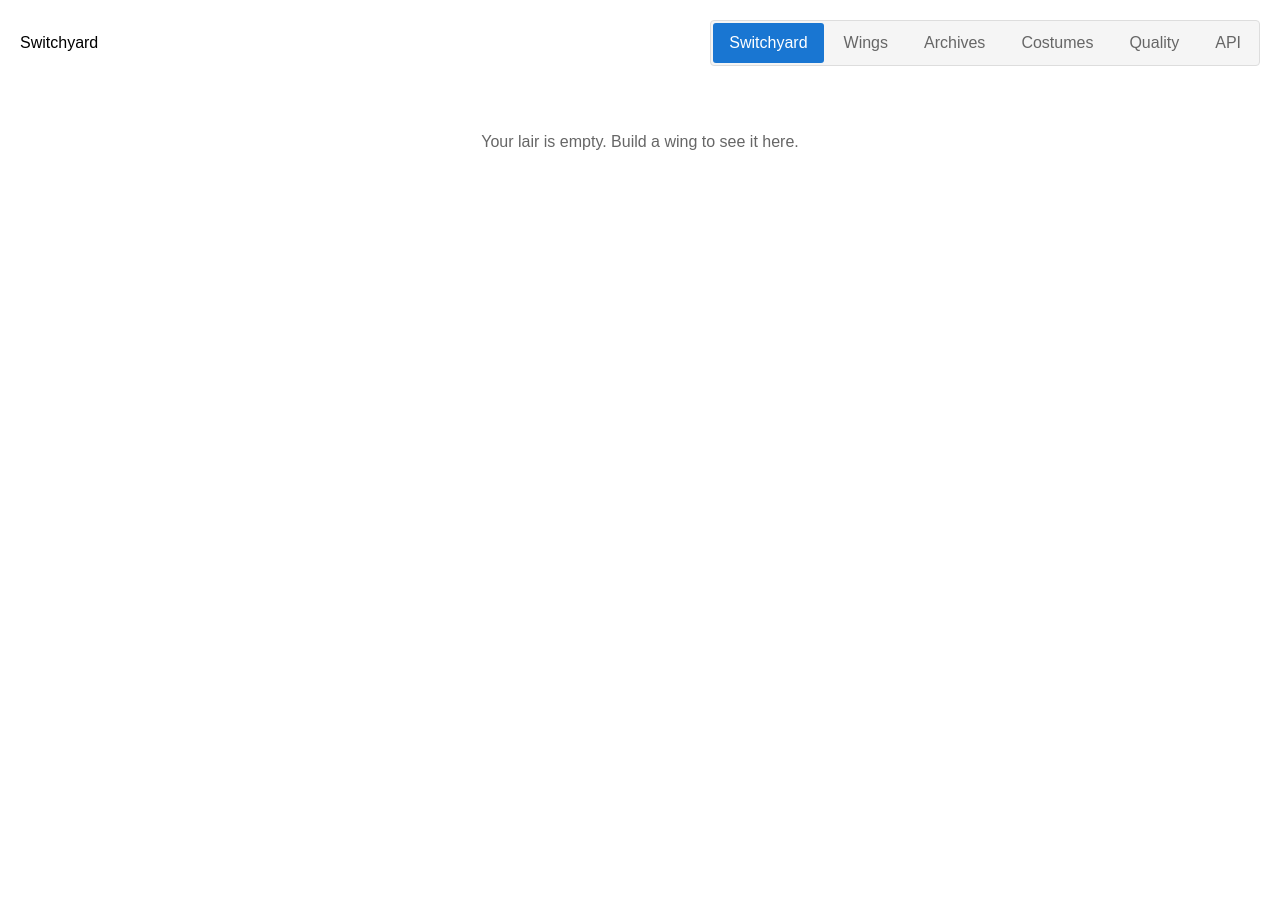
LairOverview › shows create form when button clicked
Click the button "Wings" at (866, 43), box 828,23 -> 904,63
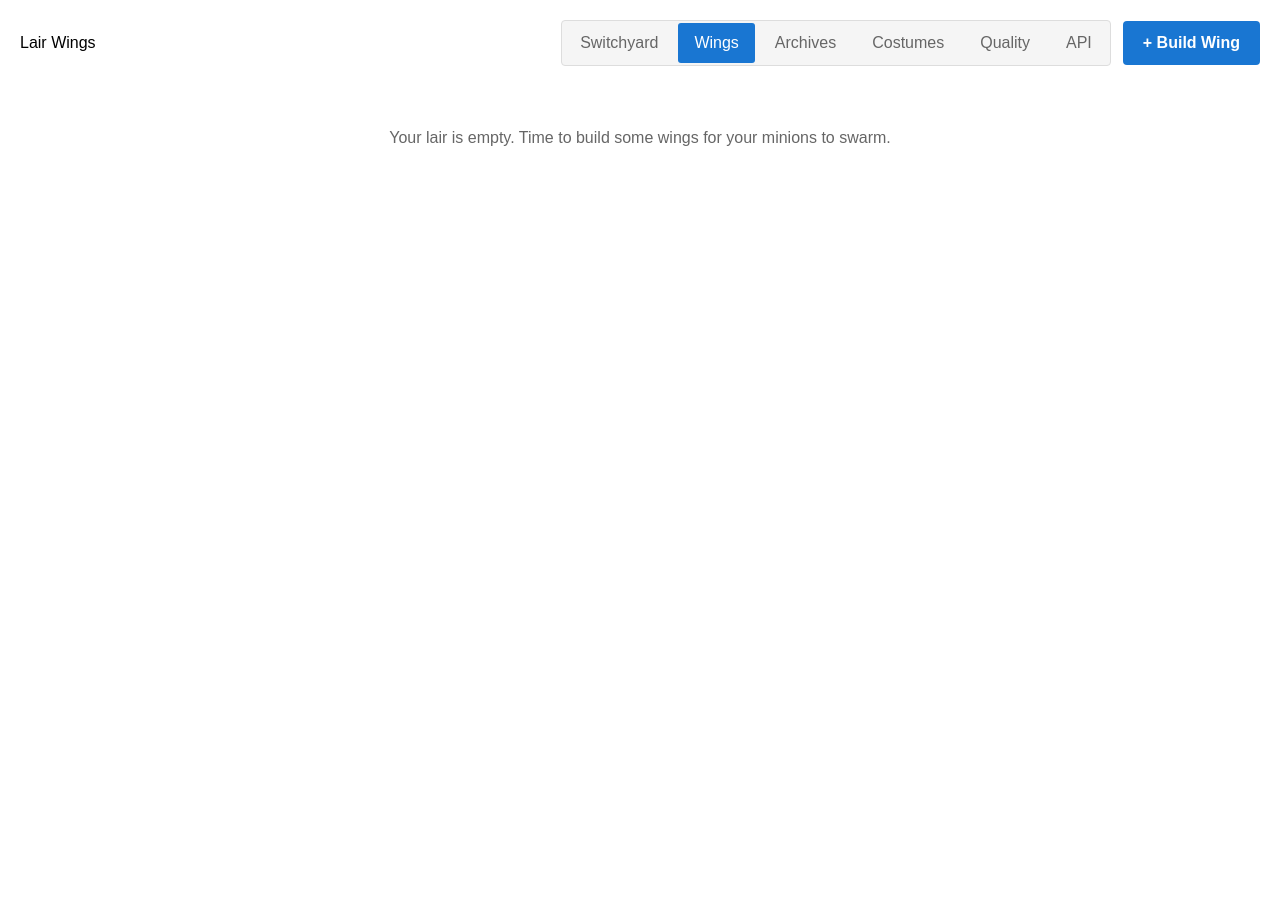
Check: the button "+ Build Wing" is shown
Click the button "+ Build Wing" at (1191, 43), box 1123,21 -> 1260,65
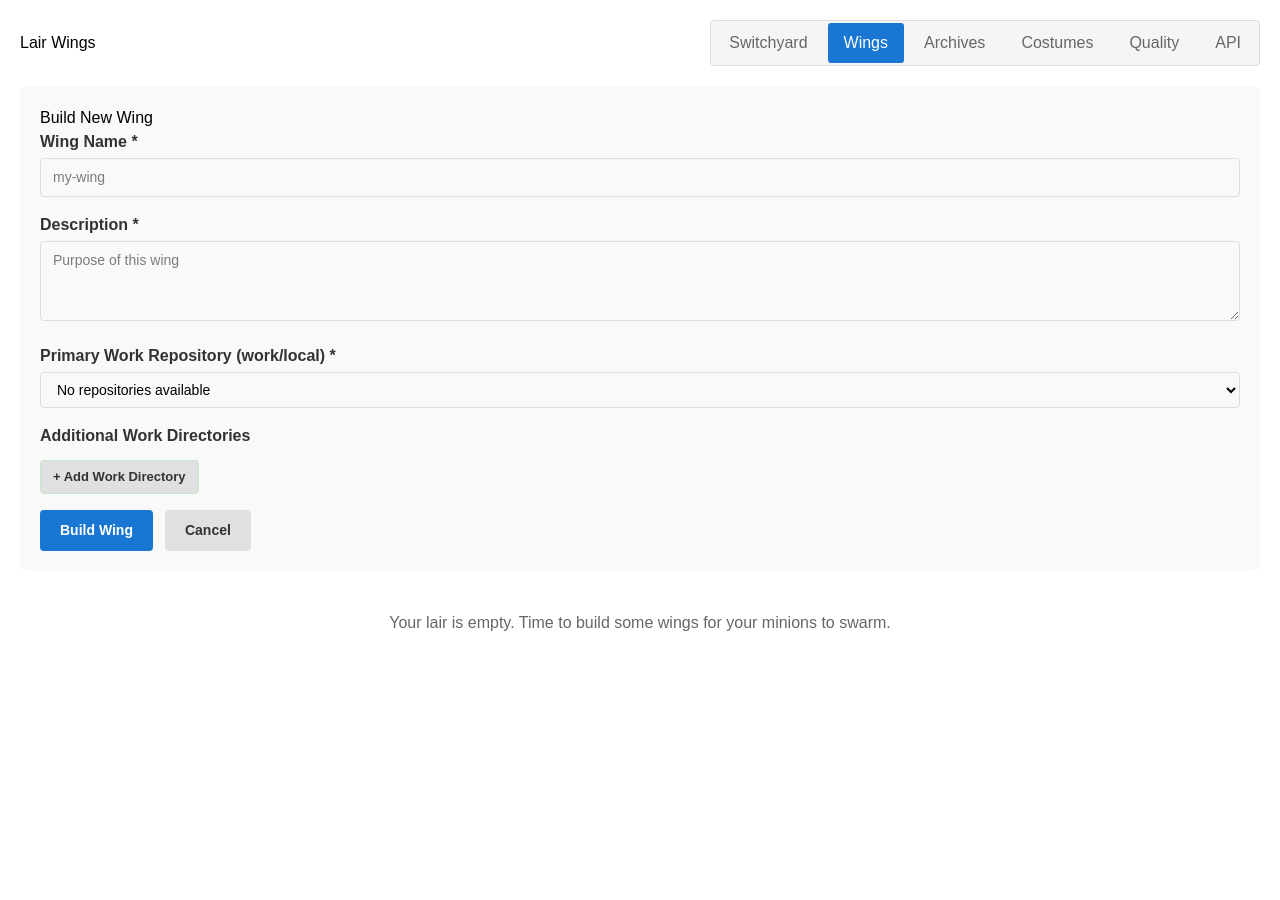
Check: the text "Build New Wing" is shown, box 40,109 -> 153,126
